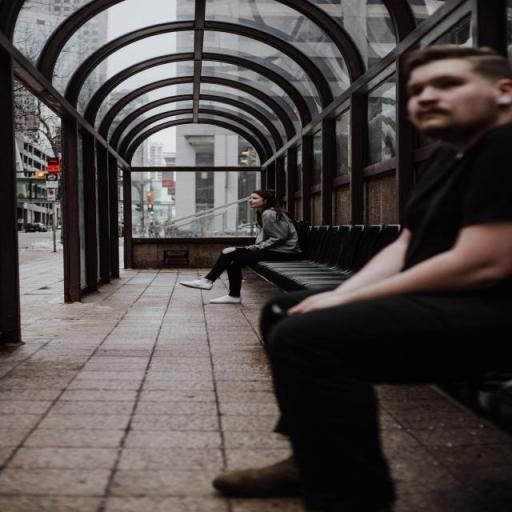Persona: (209, 47, 512, 511), (180, 191, 304, 303)
